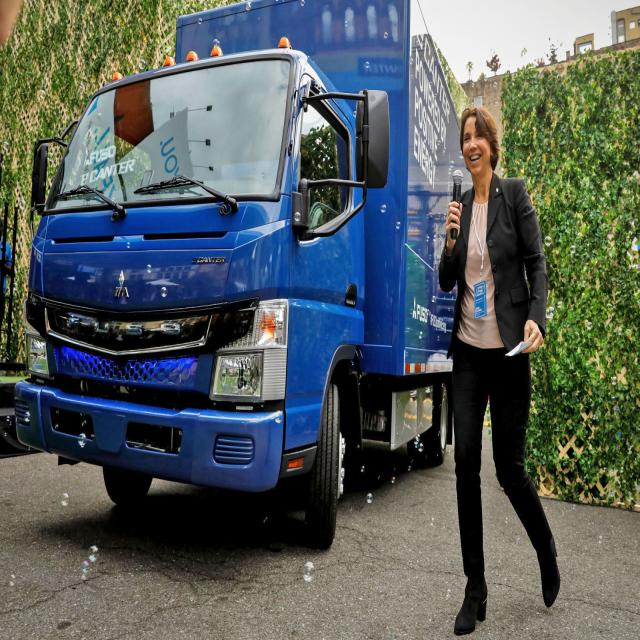truck: (14, 0, 466, 551)
